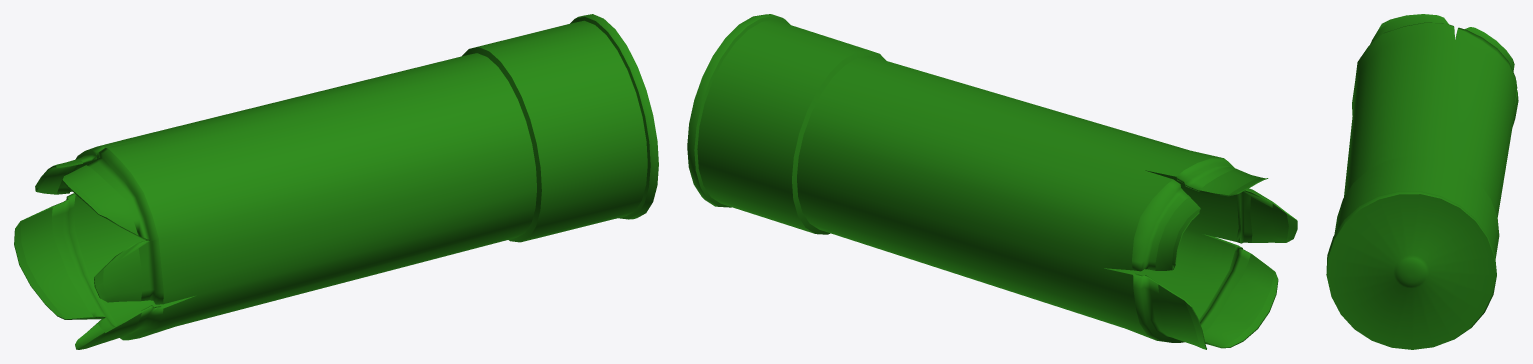
File: shotgun_shell1.fbx
The picture shows the model from 3 angles, left to right: view 1: azimuth 30°, elevation 25°; view 2: azimuth 150°, elevation 25°; view 3: azimuth 270°, elevation 25°; orthographic projection. The views are drawn at different scales.
Visible parts, largest first — view 1: bullet shotgun 2; view 2: bullet shotgun 2; view 3: bullet shotgun 2.
Part boxes in pixels (x1=…): bullet shotgun 2: x1=14, y1=14, x2=658, y2=349; bullet shotgun 2: x1=687, y1=14, x2=1297, y2=349; bullet shotgun 2: x1=1326, y1=14, x2=1518, y2=349.
Size of the model in its own units: 5.29 by 1.89 by 1.94.
